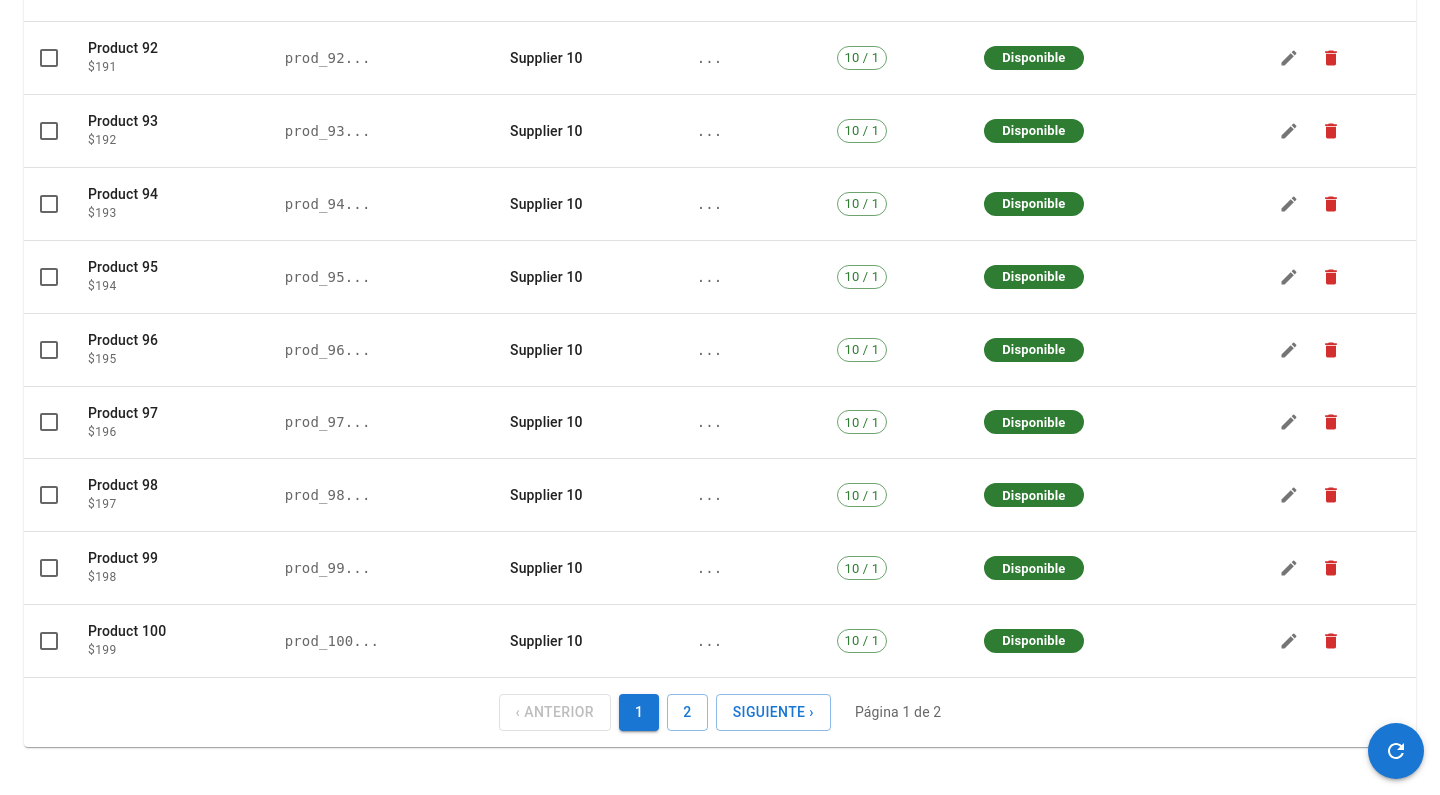
Scenario: ProductMarketplaceTable - Paginación › muestra botones de página correctos para 2 páginas (no duplicados) y navega a página 2
(page scrolled)
Expected: the text "Página 1 de 2" is shown, x1=855 y1=702 x2=941 y2=722
Expected: the button "1" is shown, x1=619 y1=694 x2=659 y2=731
# Navegar a página 2
Click the button "2" at (688, 712), box x1=667 y1=694 x2=708 y2=731
(page scrolled)
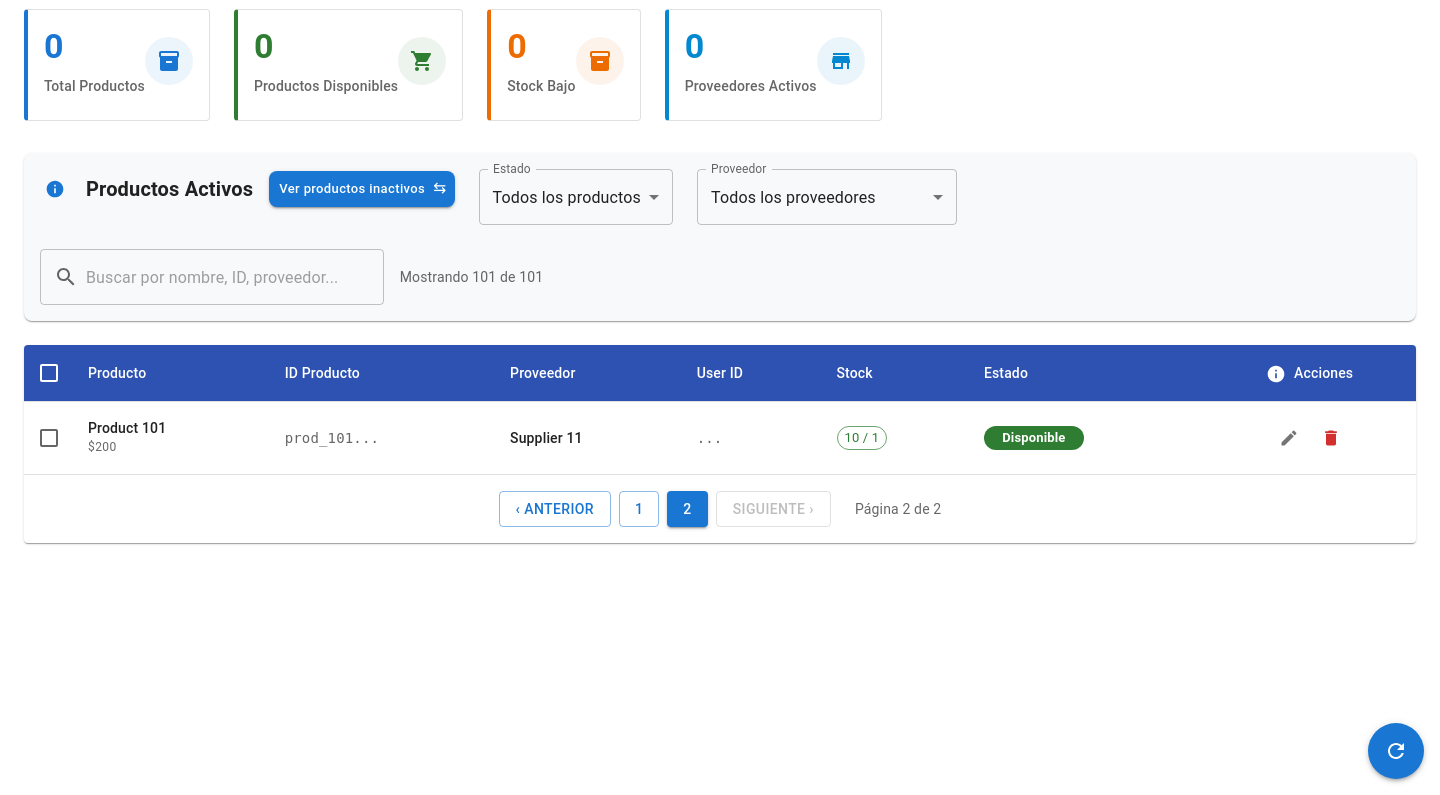
Expected: the text "Página 2 de 2" is shown, x1=855 y1=499 x2=941 y2=519
Expected: the text "Product 101" is shown, x1=88 y1=420 x2=166 y2=436
